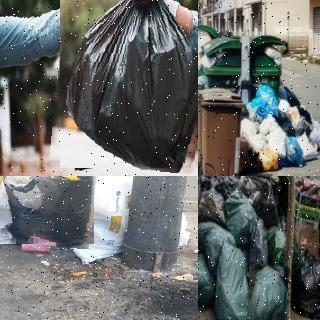Garbage: (54, 0, 198, 171), (69, 176, 144, 266), (0, 176, 96, 246), (212, 238, 252, 320), (247, 265, 288, 320), (291, 247, 320, 320), (221, 187, 257, 242), (198, 176, 226, 225), (198, 254, 215, 310), (255, 82, 279, 115), (285, 135, 304, 168), (257, 146, 279, 171), (275, 109, 295, 136), (297, 134, 318, 159)
